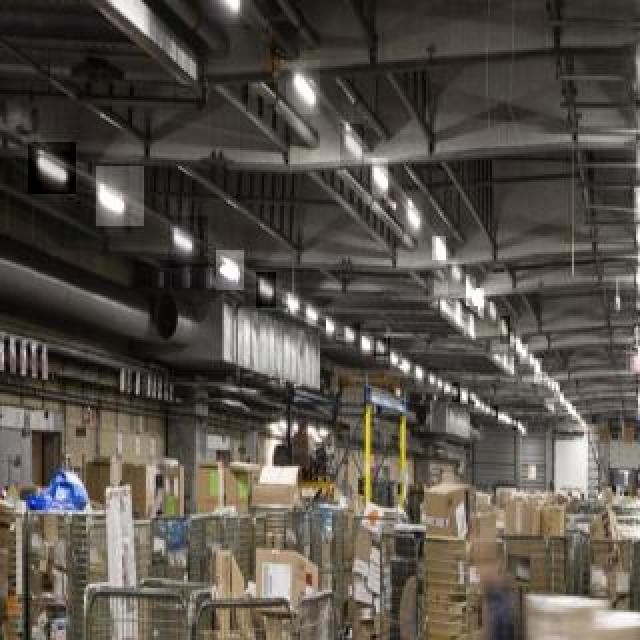fluorescent tube: (271, 56, 331, 109), (318, 120, 369, 167), (91, 174, 136, 223), (357, 155, 399, 205), (33, 138, 80, 182), (205, 249, 243, 300), (388, 196, 428, 244), (200, 0, 245, 31), (256, 269, 280, 316), (173, 220, 200, 260), (622, 94, 640, 146), (624, 42, 640, 88), (433, 233, 449, 271), (622, 140, 640, 168), (632, 180, 640, 226)
